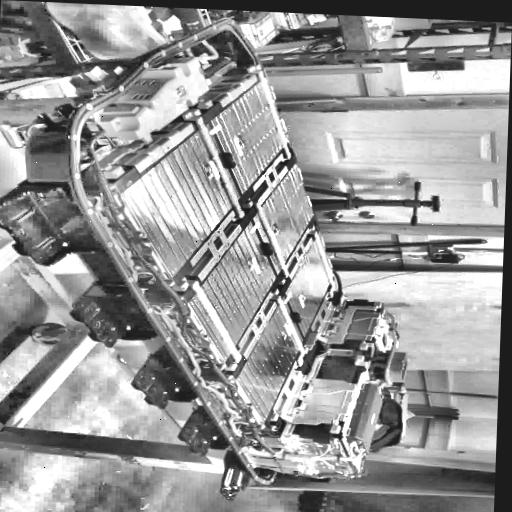bms_unit: (344, 381, 387, 461)
busbar: (181, 107, 250, 223), (171, 277, 243, 372), (247, 64, 296, 162), (301, 301, 387, 353), (242, 199, 293, 285), (267, 288, 310, 369), (306, 222, 342, 300), (265, 409, 342, 435)
connector: (371, 346, 411, 387)
high_volt_cable: (89, 190, 365, 465)
low_volt_cable: (83, 119, 371, 486)
